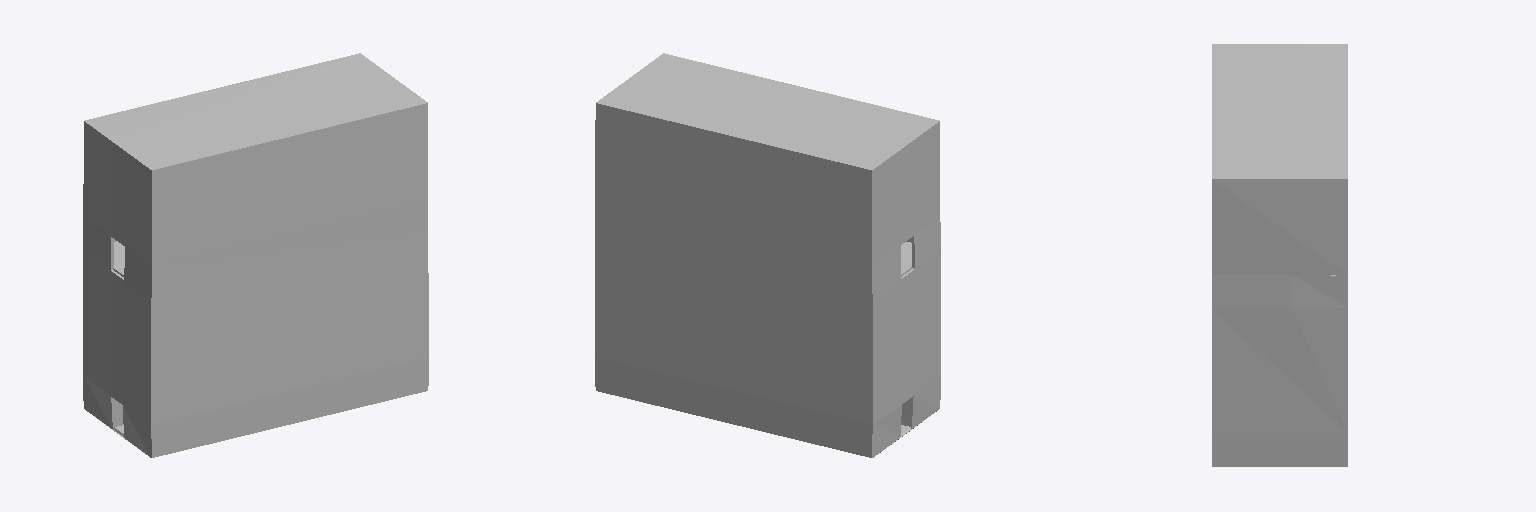
File: buildingSPECIAL2_collider.obj
3 views of the same model, side by side, from view 1: azimuth 30°, elevation 25°; view 2: azimuth 150°, elevation 25°; view 3: azimuth 270°, elevation 25° (orthographic).
Parts seen in each view (by area): view 1: buildingSPECIAL_collider; view 2: buildingSPECIAL_collider; view 3: buildingSPECIAL_collider.
Boxes of the visible parts, x1=… form: buildingSPECIAL_collider: x1=83, y1=53, x2=428, y2=457; buildingSPECIAL_collider: x1=595, y1=53, x2=940, y2=457; buildingSPECIAL_collider: x1=1212, y1=44, x2=1347, y2=466.
Bounding box in the file's own units: 48.33 × 47.89 × 20.55.